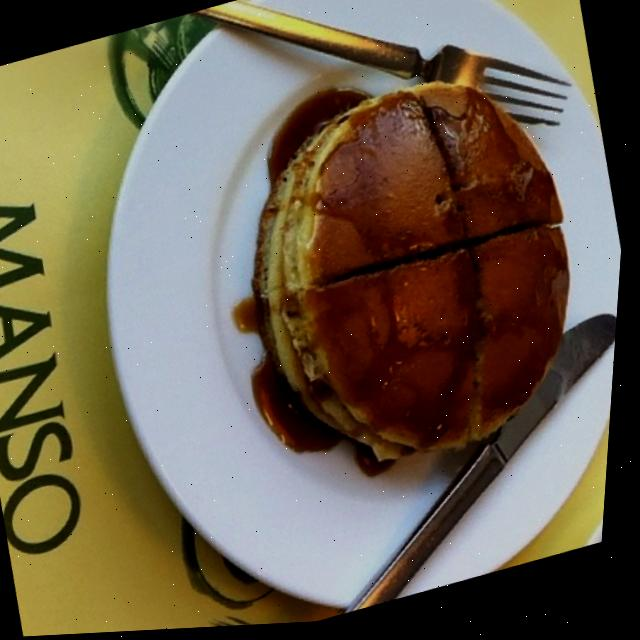蔬菜料理: (74, 0, 607, 636)
